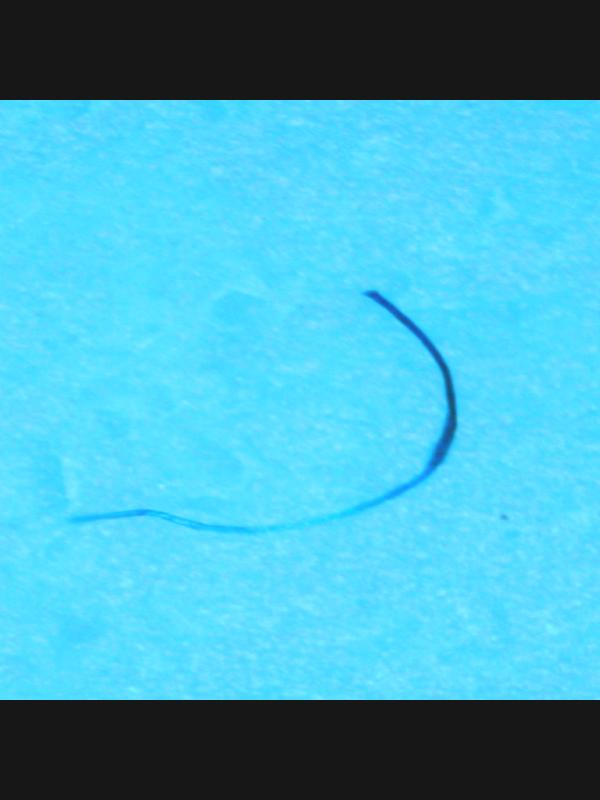microplastic: (60, 289, 458, 537)
